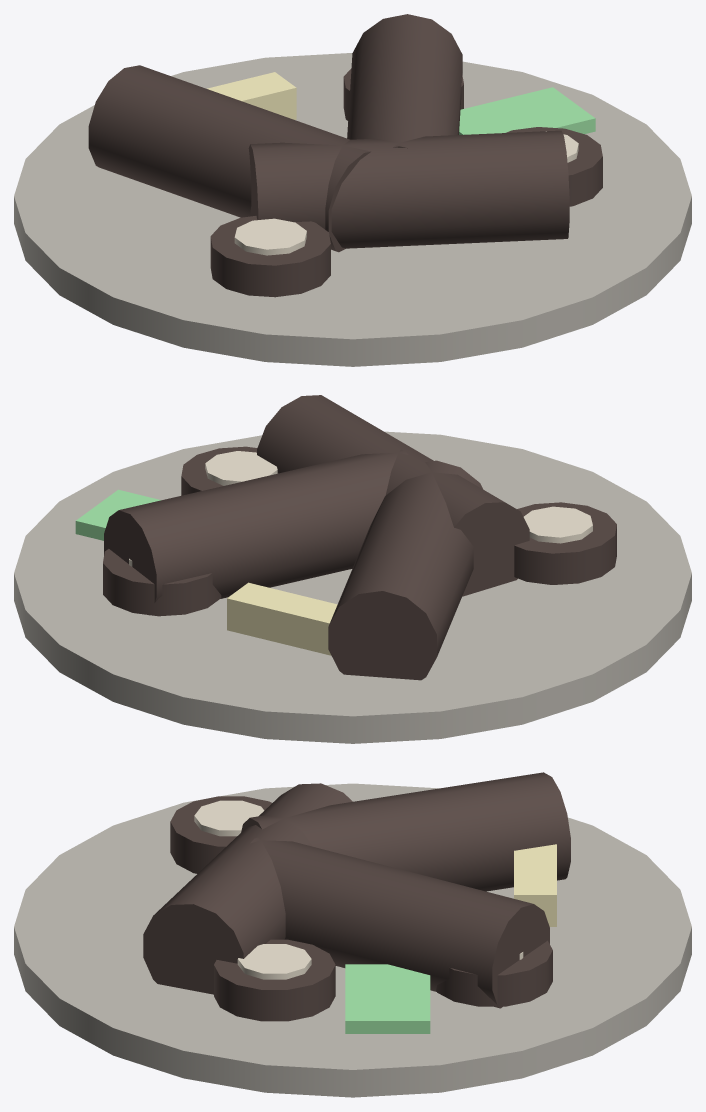
The model's file is soondae-platter.glb.
The picture shows the model from 3 angles, top to bottom: view 1: azimuth 30°, elevation 25°; view 2: azimuth 150°, elevation 25°; view 3: azimuth 270°, elevation 25°; orthographic projection.
Visible parts, largest first — view 1: soondae_platter; view 2: soondae_platter; view 3: soondae_platter.
Boxes of the visible parts, x1=… form: soondae_platter: x1=14, y1=14, x2=691, y2=366; soondae_platter: x1=14, y1=395, x2=691, y2=743; soondae_platter: x1=14, y1=772, x2=691, y2=1097.
Bounding box in the file's own units: 0.156 × 0.029 × 0.156.
